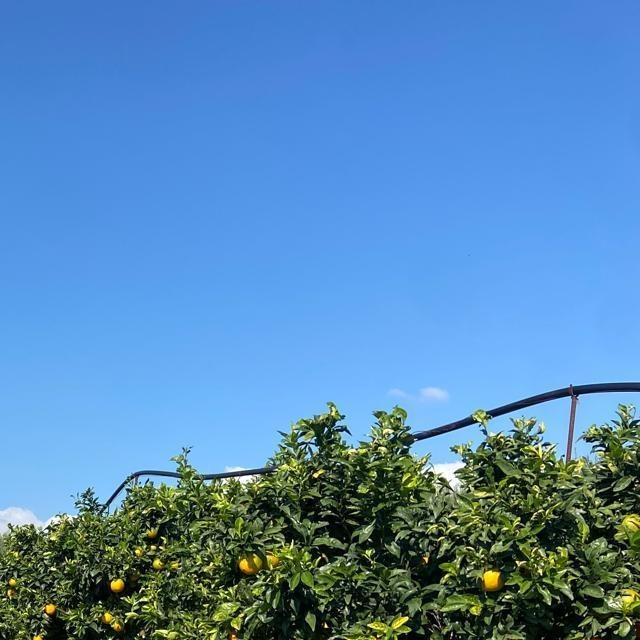orange: (611, 586, 639, 620), (621, 511, 639, 551), (228, 620, 262, 640), (238, 550, 266, 574), (479, 565, 503, 591), (263, 545, 287, 565), (108, 573, 124, 593), (489, 631, 523, 640), (41, 601, 59, 615), (151, 554, 165, 570), (100, 612, 112, 626), (143, 524, 155, 538), (363, 634, 389, 640), (132, 545, 142, 557), (7, 576, 17, 586), (114, 621, 122, 631), (32, 634, 44, 640), (586, 637, 608, 640)
